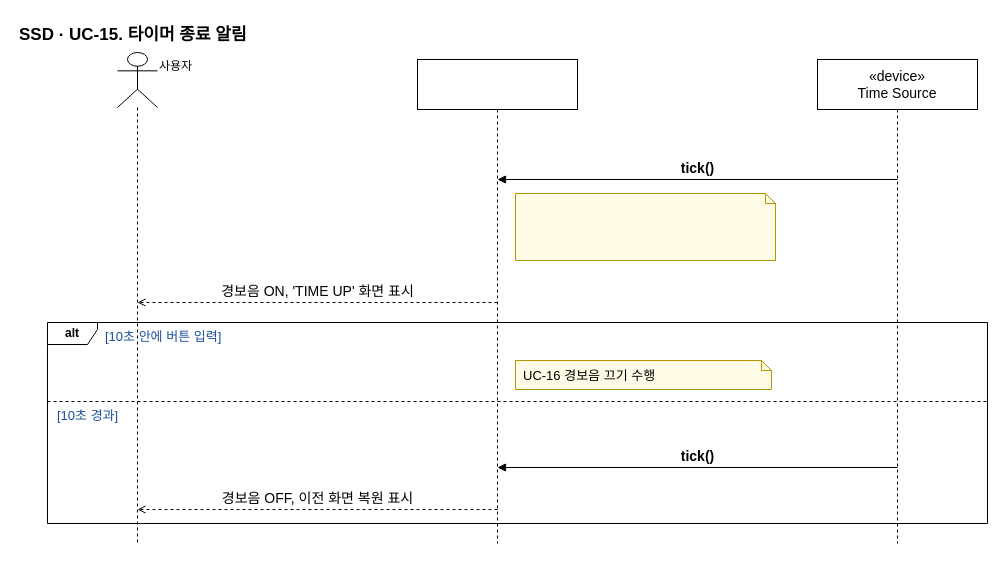
The diagram is 1006 pixels wide and 561 high, and some of its shapes have lost their labels. The shapes that lost their labels are listed below. From the top down, each one's box as (x1, y1, x2, y2) in pixels, then its label:
(514, 192, 776, 260): 남은 시간 = 0 지금 화면 상태 저장 타이머 정지, 남은 시간 = 설정값
(416, 58, 578, 544): :DW Control SW
